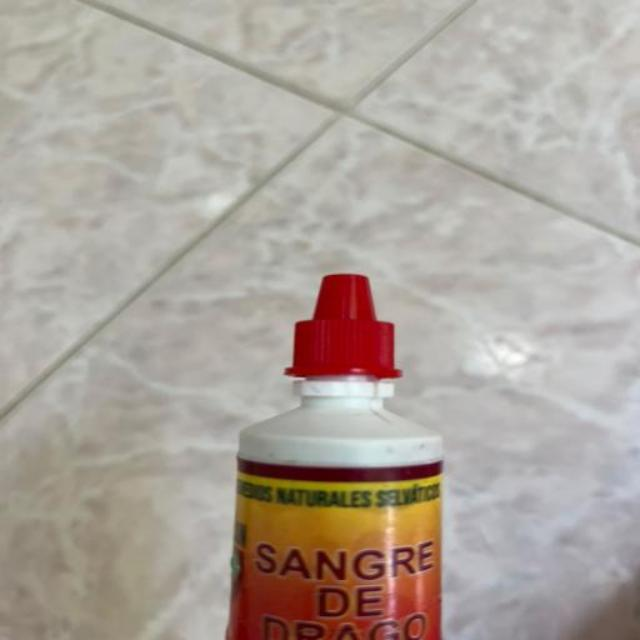HDPE: (225, 278, 512, 640)
